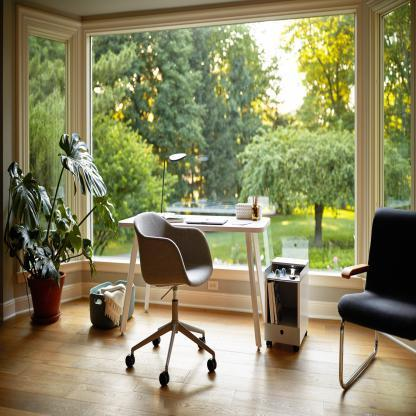chair: (121, 209, 232, 399), (330, 209, 415, 414)
light: (153, 140, 188, 218)
table: (118, 198, 269, 353)
